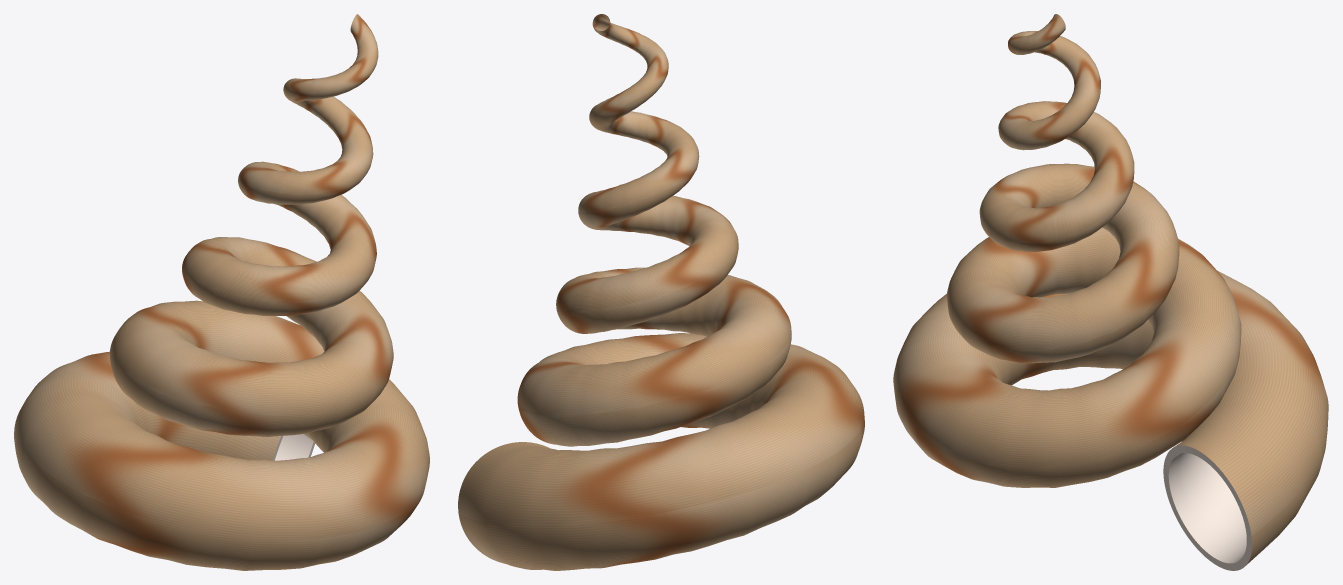
File: tower-shell.glb
3 renders of one model, left to right at view 1: azimuth 30°, elevation 25°; view 2: azimuth 150°, elevation 25°; view 3: azimuth 270°, elevation 25°, orthographic. The views are drawn at different scales.
Parts seen in each view (by area): view 1: tower-shell.001; view 2: tower-shell.001; view 3: tower-shell.001.
Boxes of the visible parts, x1,y1,x2,y2 form: tower-shell.001: [14, 14, 429, 570]; tower-shell.001: [458, 14, 864, 570]; tower-shell.001: [893, 14, 1328, 570].
Size of the model in its own units: 1.38 by 2.1 by 1.51.
3 materials, 1 textured.
